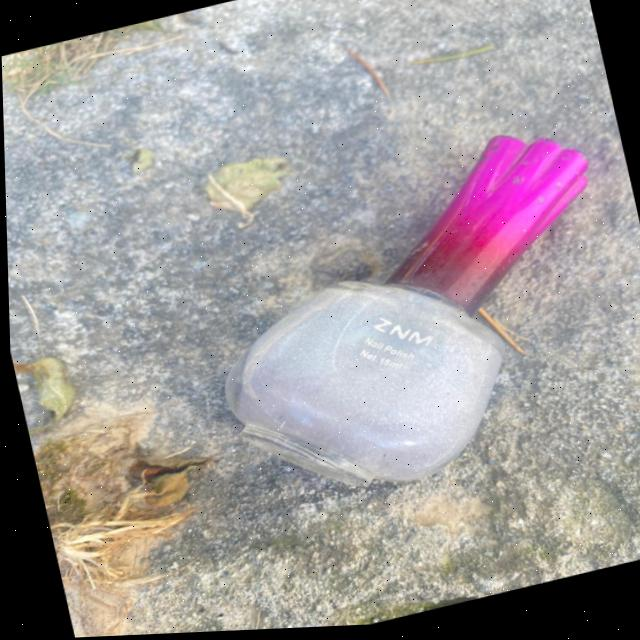nail polish: (147, 97, 640, 529)
